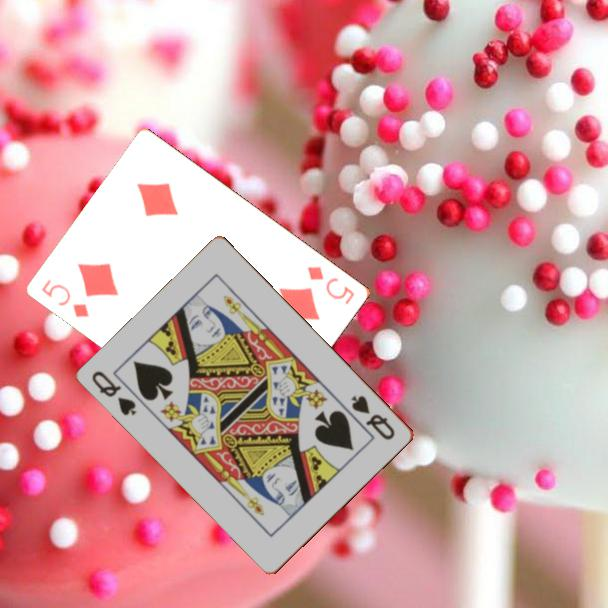d05: (38, 275, 93, 320), (304, 262, 358, 307)
s12: (89, 367, 140, 419), (348, 392, 398, 443)
